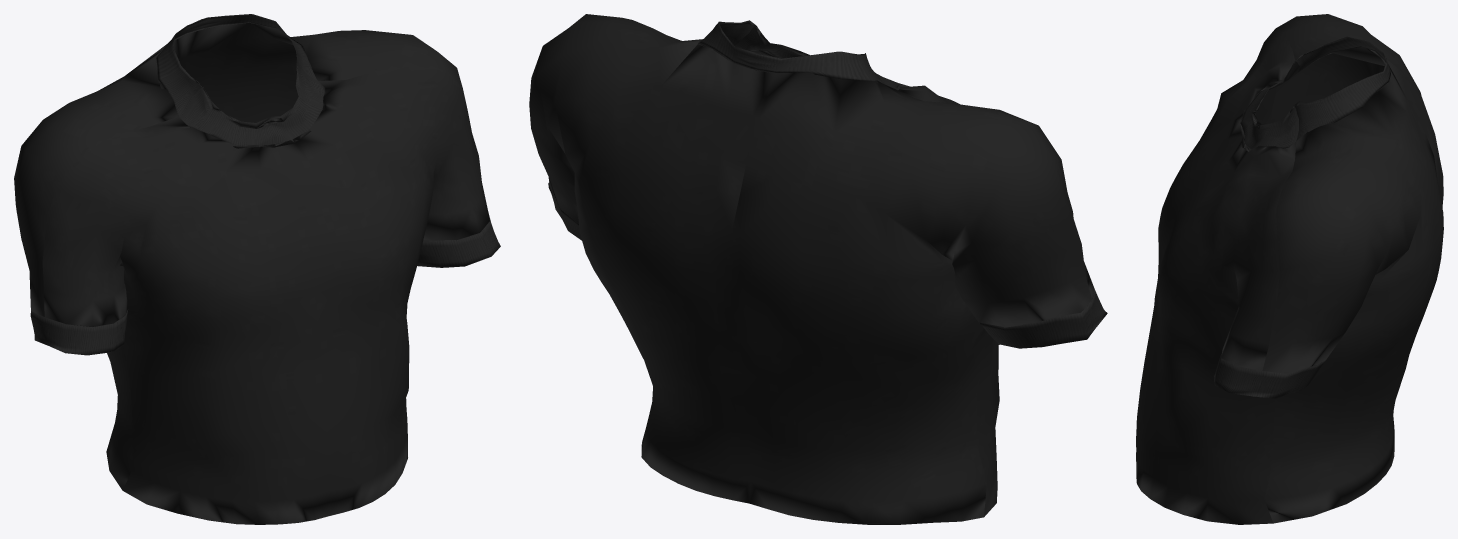
The model's file is tee-black.glb.
3 renders of one model, left to right at view 1: azimuth 30°, elevation 25°; view 2: azimuth 150°, elevation 25°; view 3: azimuth 270°, elevation 25°, orthographic. The views are drawn at different scales.
Visible parts, largest first — view 1: tee-black; view 2: tee-black; view 3: tee-black.
Boxes of the visible parts, box(x1,y1,x2,y2) form: tee-black: box(14, 14, 500, 524); tee-black: box(529, 14, 1107, 524); tee-black: box(1136, 14, 1443, 524).
Size of the model in its own units: 0.5508 by 0.479 by 0.3247.
1 material, 1 textured.
